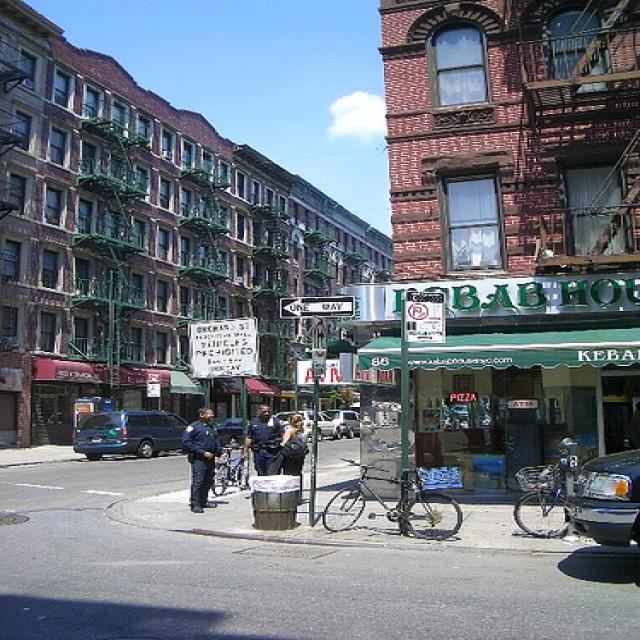Vehicle: (563, 448, 637, 548), (74, 409, 190, 457), (276, 410, 344, 442), (321, 411, 361, 438), (217, 418, 243, 436)
